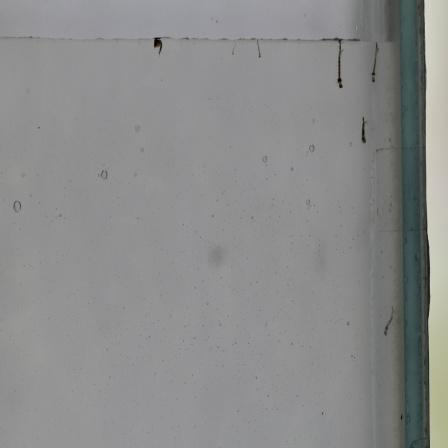Jentik-Nyamuk: (330, 39, 348, 91), (367, 40, 380, 88), (380, 302, 397, 338), (358, 113, 370, 148), (149, 36, 166, 58), (253, 38, 265, 61)
